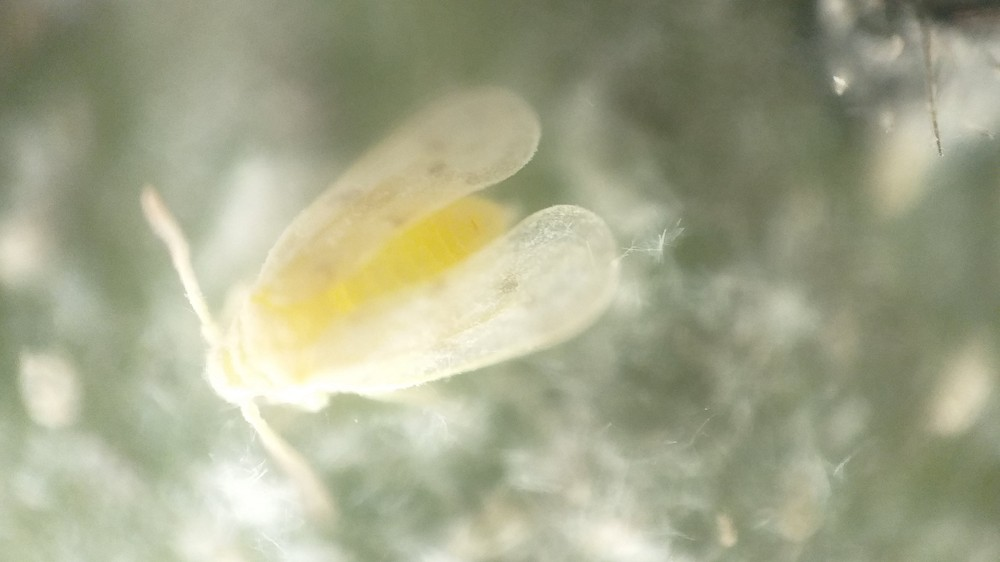Mosca Blanca: (133, 82, 636, 532)
